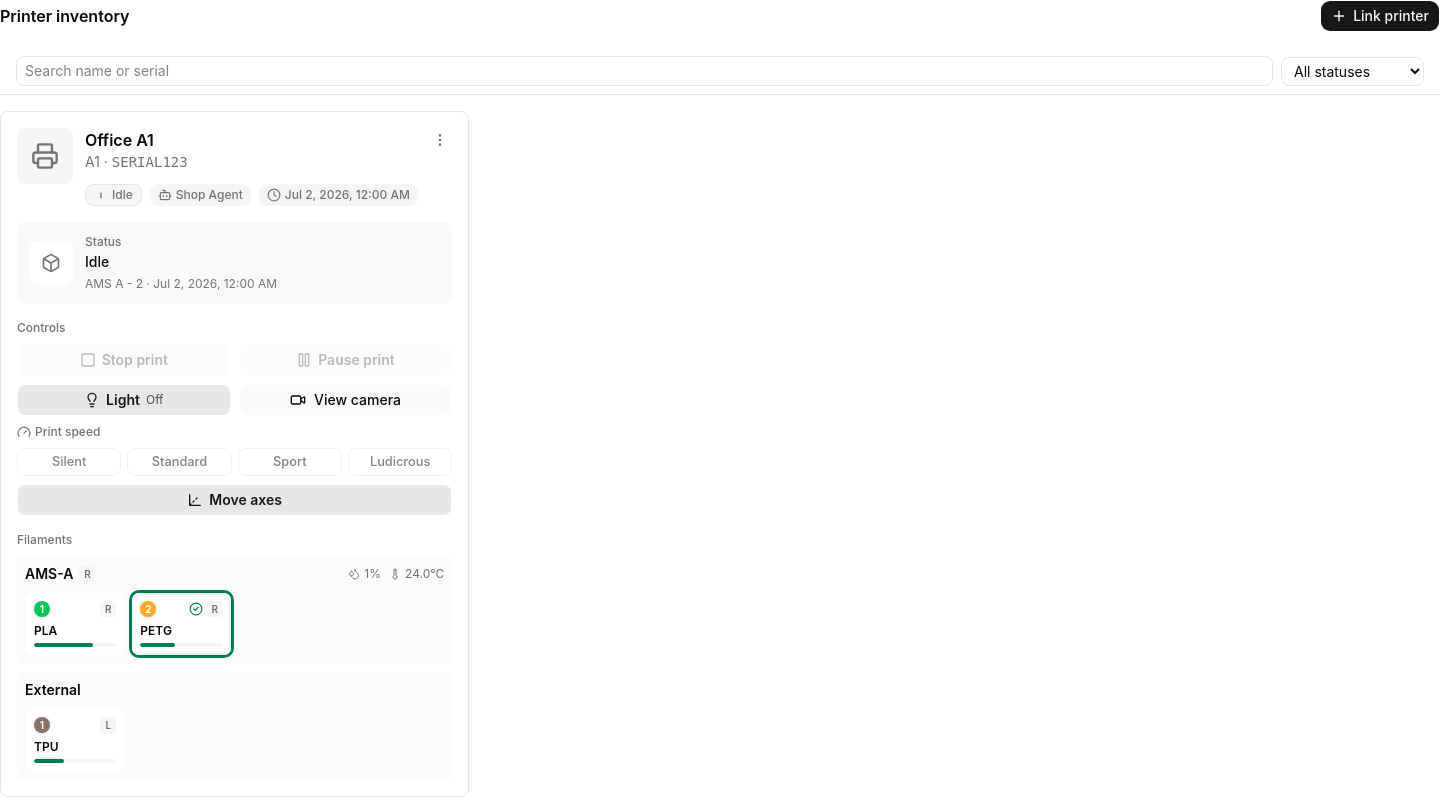
PrinterInventory › opens an AMS slot popover on click with RFID, load, and unload operations
The image size is (1440, 810).
Click the button with aria-label "AMS-A slot 2, PETG, Active, Remaining: 42%": click(181, 624) [131,592,232,656]
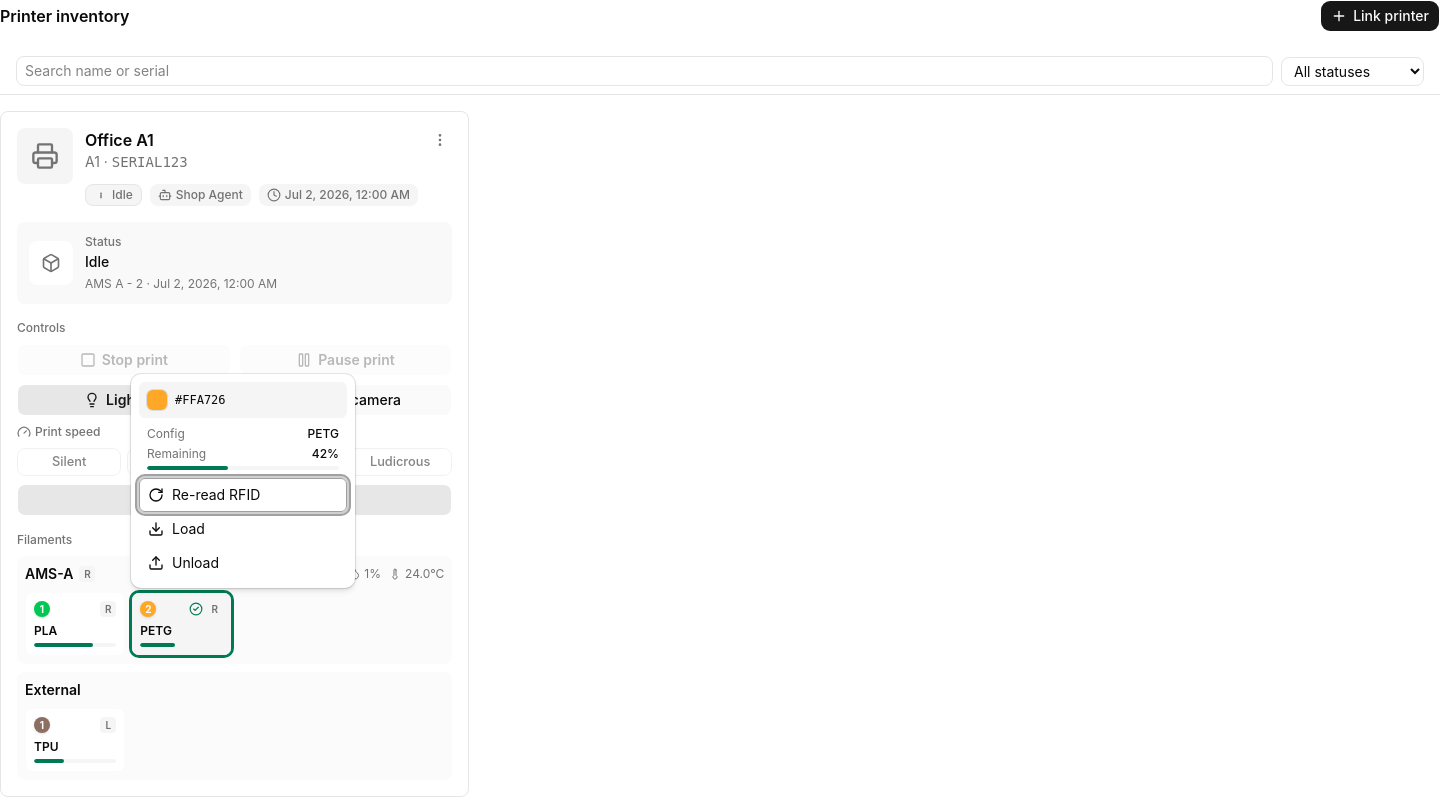
Expected: the text "#FFA726" is shown, [175,392,226,408]
Expected: the text "42%" is shown, [312,446,339,462]
Expected: the button "Re-read RFID" is shown, [139,478,347,512]
